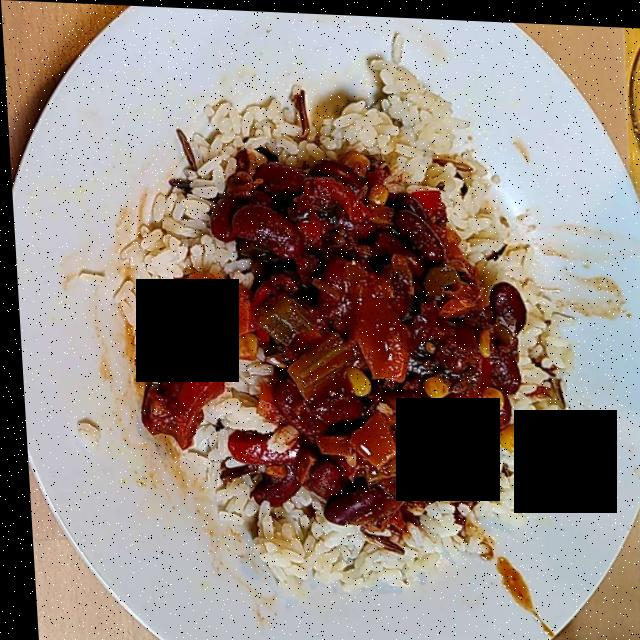chili-con-carne-prepared: (130, 156, 526, 537)
rice: (123, 68, 567, 599)
